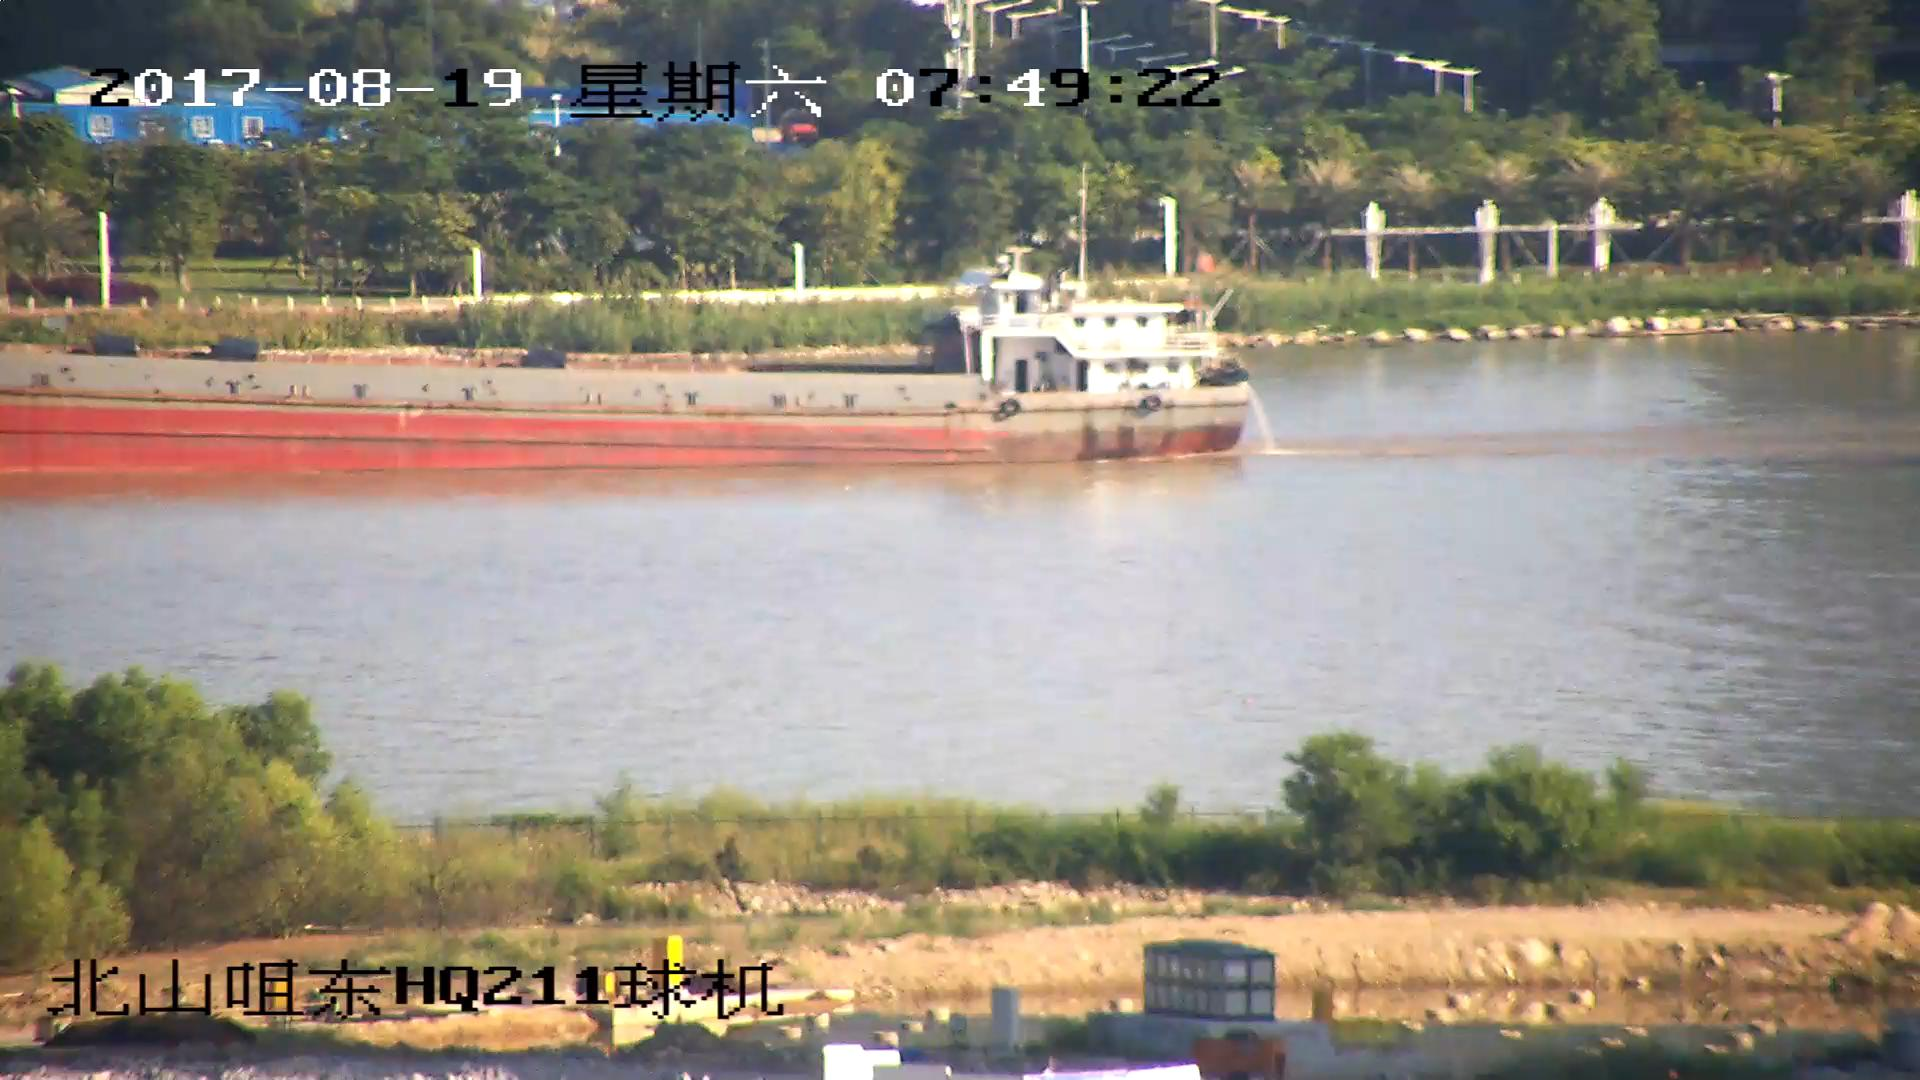bulk cargo carrier: (1, 245, 1253, 479)
